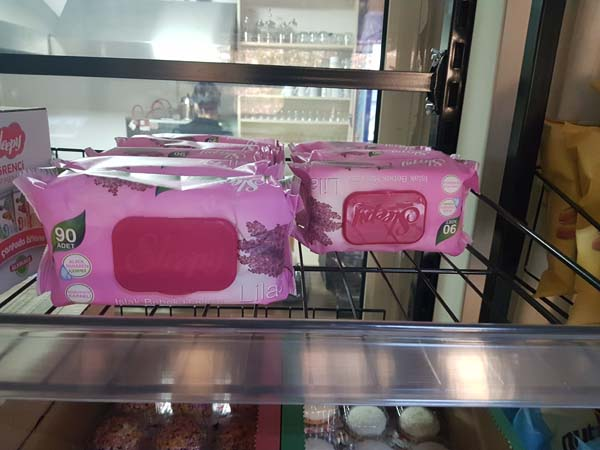sleepyislakmendil: (21, 170, 294, 302), (291, 162, 474, 255)
